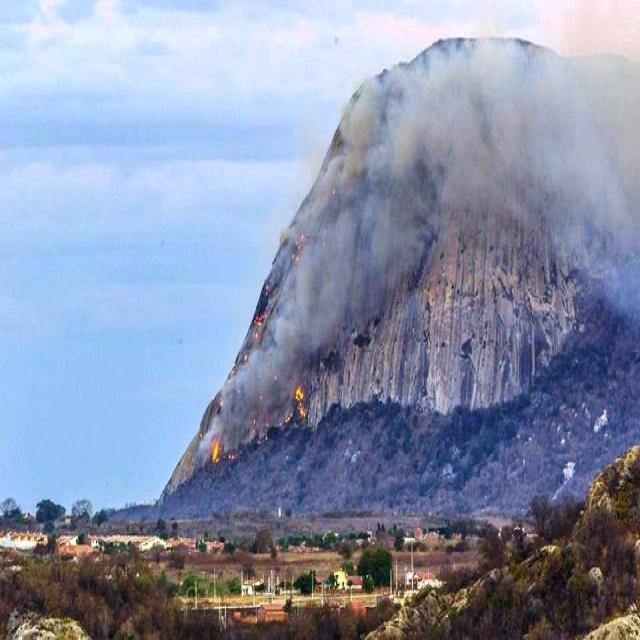Fire: (290, 380, 306, 421), (211, 441, 222, 467)
Smoke: (331, 0, 639, 324), (192, 120, 330, 463)
